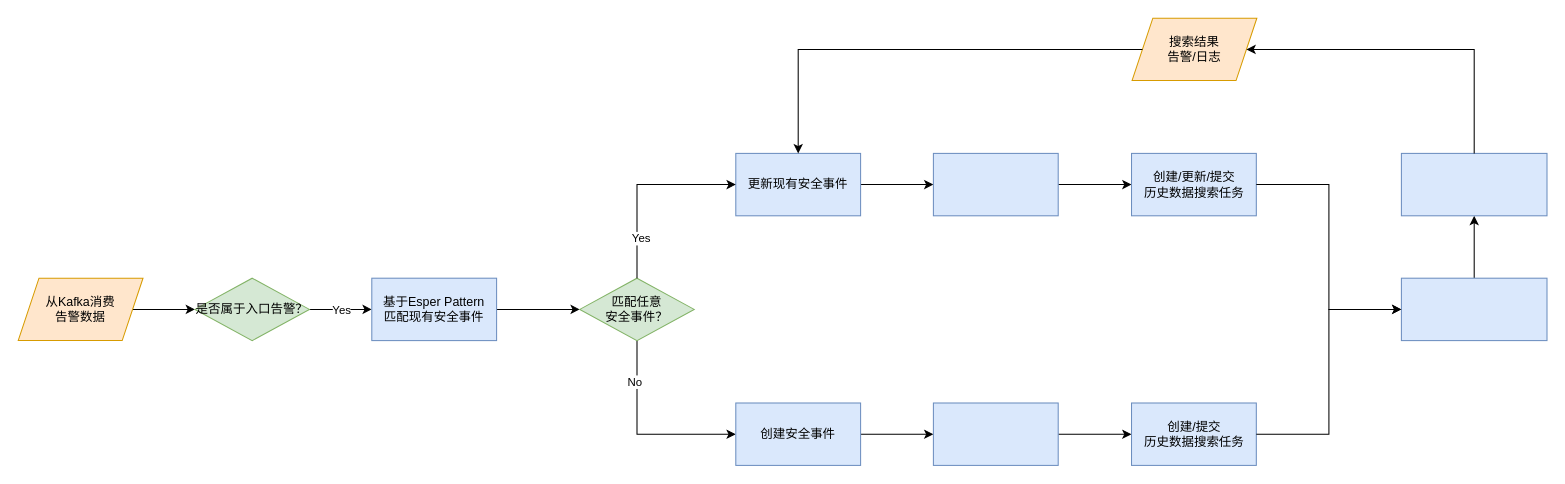
The diagram is 1565 pixels wide and 484 high, and some of its shapes have lost their labels. Each missing label, with the box of its shape:
创建Esper规则 以捕获后续告警: (932, 402, 1058, 465)
历史数据搜索任务队列 滚动执行任务: (1400, 277, 1547, 341)
执行ES搜索: (1400, 152, 1547, 216)
更新Esper规则 以捕获后续告警: (932, 152, 1058, 216)
